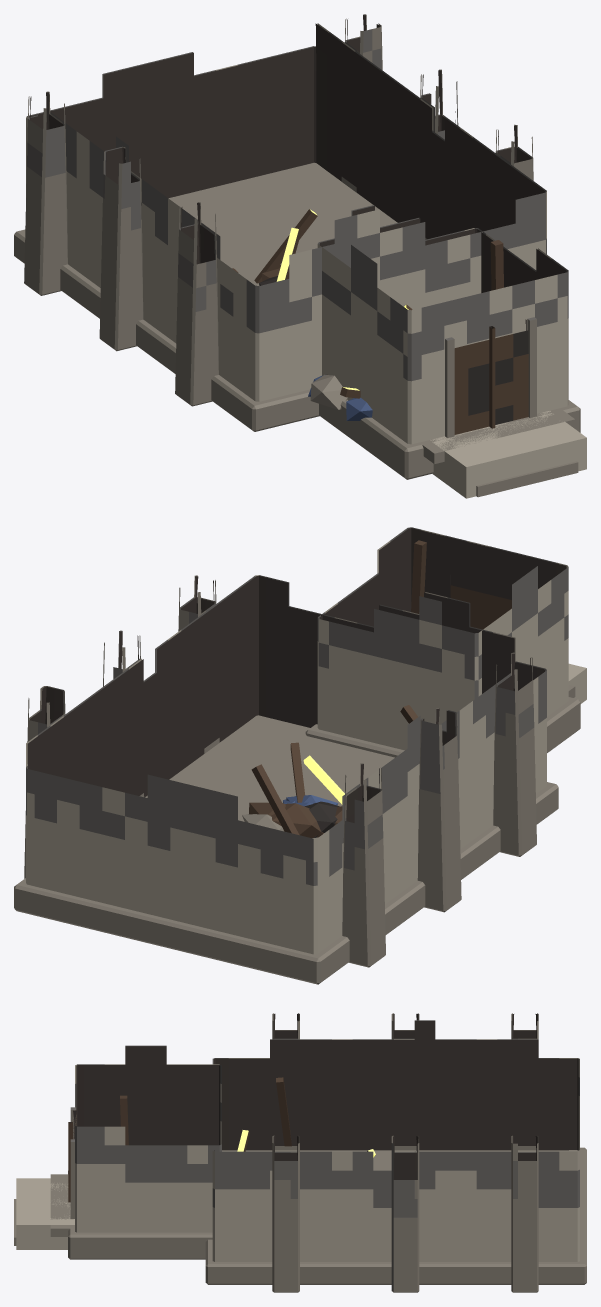
The model's file is Kapelle_Ruine.fbx.
3 views of the same model, one above another, from view 1: azimuth 30°, elevation 25°; view 2: azimuth 150°, elevation 25°; view 3: azimuth 270°, elevation 25° (orthographic). The views are drawn at different scales.
Parts seen in each view (by area): view 1: Kapelle_Ruine; view 2: Kapelle_Ruine; view 3: Kapelle_Ruine.
Boxes of the visible parts, x1,y1,x2,y2 form: Kapelle_Ruine: (14,14,586,498); Kapelle_Ruine: (14,527,586,984); Kapelle_Ruine: (14,1013,586,1292).
Bounding box in the file's own units: 6.9 × 3.63 × 12.47.
